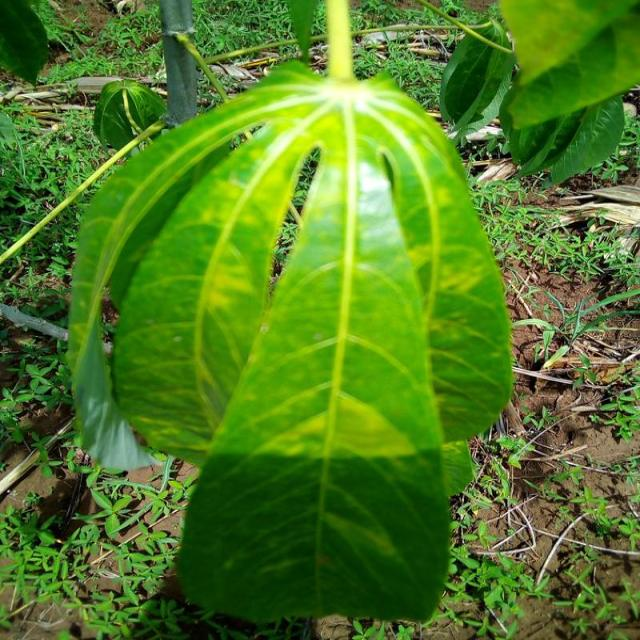cassava leaf: (66, 53, 514, 624)
